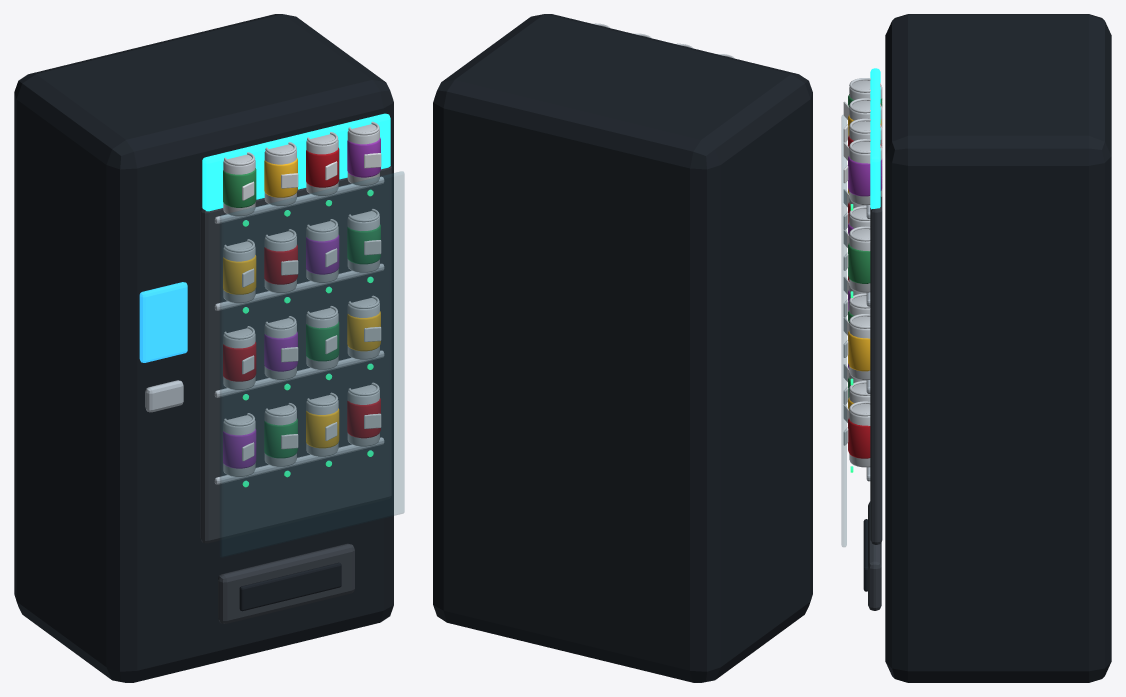
File: vending-machine.glb
3 views of the same model, side by side, from view 1: azimuth 30°, elevation 25°; view 2: azimuth 150°, elevation 25°; view 3: azimuth 270°, elevation 25° (orthographic).
Visible parts, largest first — view 1: vending · Soft black, vending · Smoked glass, vending · Graphite metal, vending · Can aluminum, vending · Brushed aluminum, vending · Status cyan, vending · Drink label purple, vending · Leaf green, vending · Drink label yellow, vending · Emergency red, vending · Warm white, vending · Active display (+1 smaller); view 2: vending · Soft black; view 3: vending · Soft black, vending · Can aluminum, vending · Graphite metal, vending · Smoked glass, vending · Status cyan, vending · Warm white, vending · Drink label purple, vending · Leaf green, vending · Drink label yellow, vending · Emergency red.
Boxes of the visible parts, box(x1,y1,x2,y2) form: vending · Soft black: box(14, 14, 393, 682); vending · Smoked glass: box(220, 171, 404, 557); vending · Graphite metal: box(200, 165, 391, 623); vending · Can aluminum: box(223, 121, 379, 476); vending · Brushed aluminum: box(145, 176, 384, 484); vending · Status cyan: box(202, 113, 390, 211); vending · Drink label purple: box(223, 137, 380, 468); vending · Leaf green: box(223, 168, 380, 458); vending · Drink label yellow: box(223, 158, 380, 448); vending · Emergency red: box(223, 147, 380, 438); vending · Warm white: box(242, 153, 381, 461); vending · Active display: box(139, 282, 187, 362); vending · Soft black: box(433, 14, 812, 682); vending · Soft black: box(863, 14, 1111, 682); vending · Can aluminum: box(849, 78, 882, 467); vending · Graphite metal: box(868, 196, 882, 610); vending · Smoked glass: box(841, 115, 846, 546); vending · Status cyan: box(870, 68, 880, 209); vending · Warm white: box(843, 101, 849, 445); vending · Drink label purple: box(848, 155, 882, 369); vending · Leaf green: box(848, 94, 882, 398); vending · Drink label yellow: box(848, 114, 881, 410); vending · Emergency red: box(848, 135, 881, 458).
Size of the model in its own units: 1.1 by 2 by 0.896.
